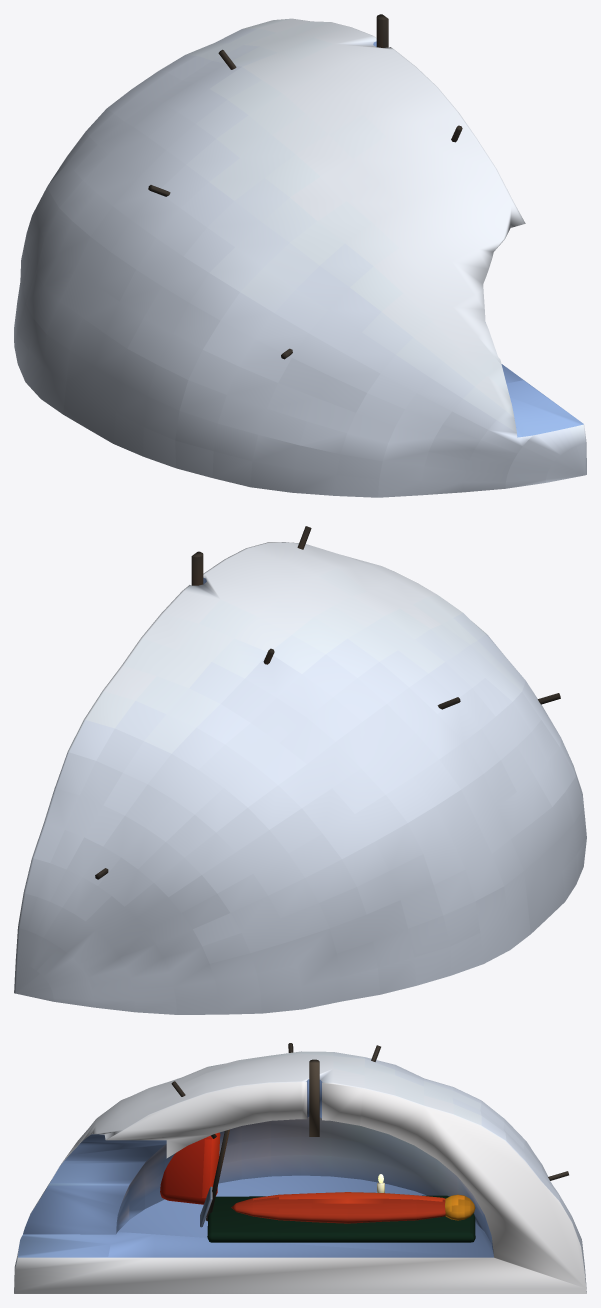
The model's file is Quinzhee_section.glb.
3 views of the same model, one above another, from view 1: azimuth 30°, elevation 25°; view 2: azimuth 150°, elevation 25°; view 3: azimuth 270°, elevation 25° (orthographic). The views are drawn at different scales.
Visible parts, largest first — view 1: sec_mound; view 2: sec_mound, sec_sticks; view 3: sec_mound, sec_bed, sec_bag, sec_pack, sec_vent, sec_pillow, sec_shovel_shaft, sec_sticks.
Boxes of the visible parts, left/top/right/bottom form: sec_mound: left=14, top=18, right=586, bottom=497; sec_mound: left=14, top=542, right=586, bottom=1014; sec_sticks: left=95, top=526, right=560, bottom=879; sec_mound: left=14, top=1051, right=586, bottom=1293; sec_bed: left=207, top=1195, right=475, bottom=1242; sec_bag: left=231, top=1192, right=445, bottom=1223; sec_pack: left=160, top=1132, right=220, bottom=1204; sec_vent: left=309, top=1059, right=319, bottom=1136; sec_pillow: left=445, top=1194, right=475, bottom=1220; sec_shovel_shaft: left=206, top=1129, right=229, bottom=1221; sec_sticks: left=171, top=1043, right=568, bottom=1180.
Bounding box in the file's own units: 2.15 × 1.92 × 4.31.
